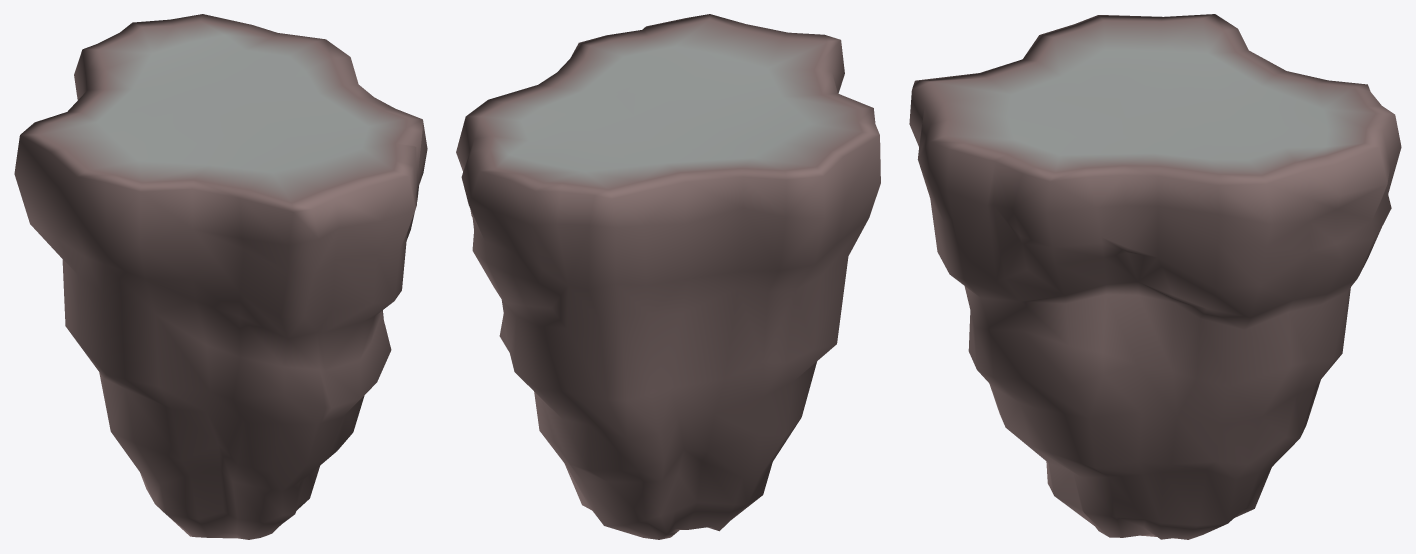
3 views of the same model, side by side, from view 1: azimuth 30°, elevation 25°; view 2: azimuth 150°, elevation 25°; view 3: azimuth 270°, elevation 25° (orthographic). The views are drawn at different scales.
Parts seen in each view (by area): view 1: G:\FFXIV-MapTools\exports\u5f1\bg\ex4\04_uvs_u5\fld\u5f1\bgp (×2); view 2: G:\FFXIV-MapTools\exports\u5f1\bg\ex4\04_uvs_u5\fld\u5f1\bgp (×2); view 3: G:\FFXIV-MapTools\exports\u5f1\bg\ex4\04_uvs_u5\fld\u5f1\bgp (×2).
Boxes of the visible parts, x1=… form: G:\FFXIV-MapTools\exports\u5f1\bg\ex4\04_uvs_u5\fld\u5f1\bgp (×2): x1=14, y1=14, x2=427, y2=539; G:\FFXIV-MapTools\exports\u5f1\bg\ex4\04_uvs_u5\fld\u5f1\bgp (×2): x1=456, y1=14, x2=880, y2=539; G:\FFXIV-MapTools\exports\u5f1\bg\ex4\04_uvs_u5\fld\u5f1\bgp (×2): x1=909, y1=14, x2=1401, y2=539.
Size of the model in its own units: 24.75 by 29.09 by 29.9.
